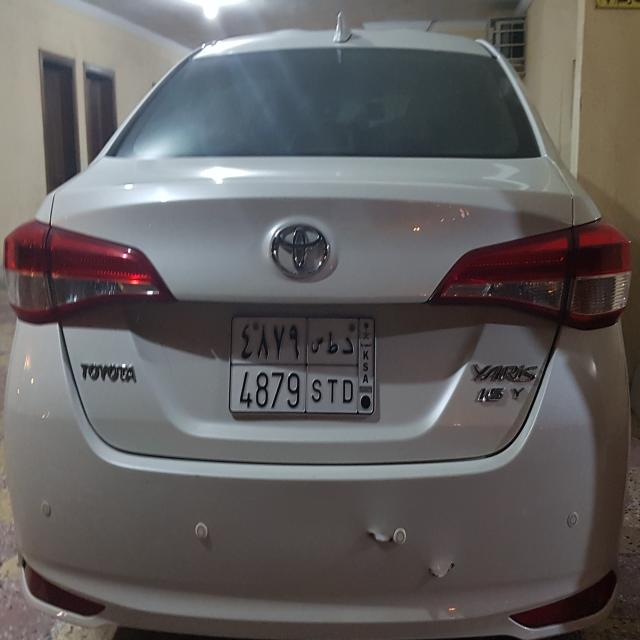license_plate: (228, 313, 378, 417)
